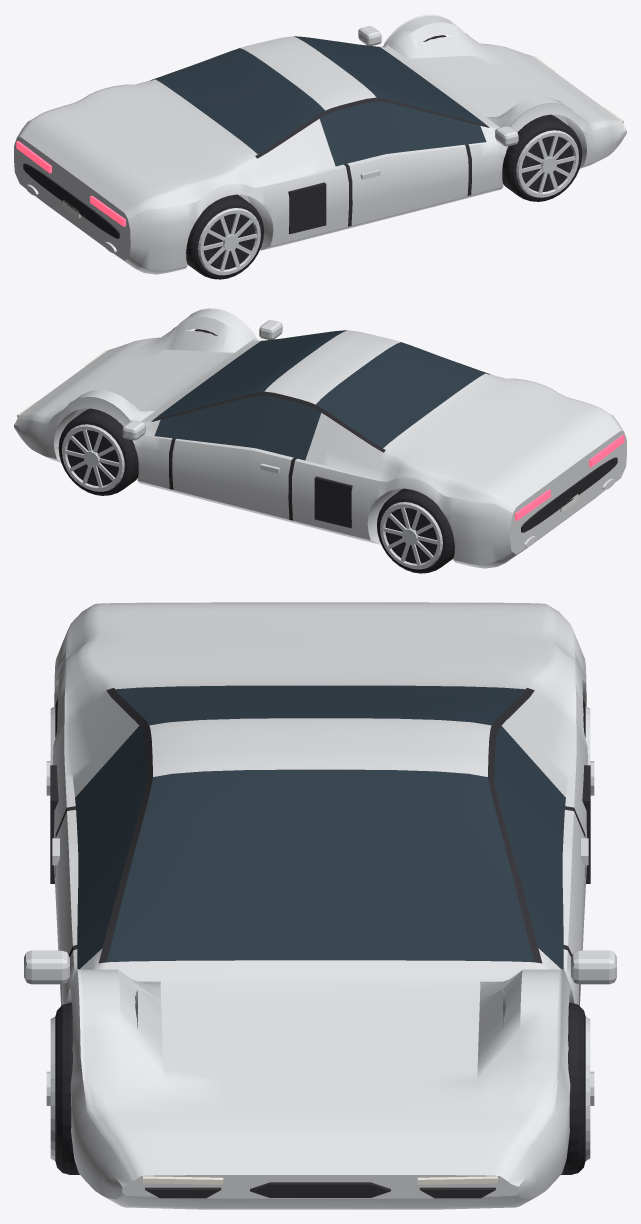
Rendered from awdi_r8.fbx.
3 renders of one model, top to bottom at view 1: azimuth 30°, elevation 25°; view 2: azimuth 150°, elevation 25°; view 3: azimuth 270°, elevation 25°, orthographic. The views are drawn at different scales.
Parts seen in each view (by area): view 1: Body.013, Glass.013, Trim.013, Tire.013, Rim.013, TailLight.013; view 2: Body.013, Glass.013, Tire.013, Trim.013, Rim.013, TailLight.013; view 3: Body.013, Glass.013, Trim.013, Tire.013, Rim.013, HeadLight.013.
Boxes of the visible parts, left/top/right/bottom form: Body.013: left=14, top=14, right=626, bottom=274; Glass.013: left=155, top=36, right=487, bottom=166; Trim.013: left=23, top=44, right=572, bottom=269; Tire.013: left=186, top=35, right=582, bottom=279; Rim.013: left=198, top=130, right=578, bottom=275; TailLight.013: left=16, top=141, right=125, bottom=226; Body.013: left=14, top=308, right=626, bottom=568; Glass.013: left=153, top=330, right=485, bottom=460; Tire.013: left=58, top=329, right=454, bottom=573; Trim.013: left=67, top=338, right=617, bottom=563; Rim.013: left=62, top=424, right=442, bottom=569; TailLight.013: left=515, top=435, right=624, bottom=520; Body.013: left=24, top=602, right=616, bottom=1209; Glass.013: left=75, top=685, right=565, bottom=969; Trim.013: left=50, top=688, right=590, bottom=1198; Tire.013: left=55, top=699, right=585, bottom=1174; Rim.013: left=46, top=706, right=594, bottom=1160; HeadLight.013: left=143, top=1176, right=497, bottom=1184.
Size of the model in its own units: 1534 by 370 by 773.
